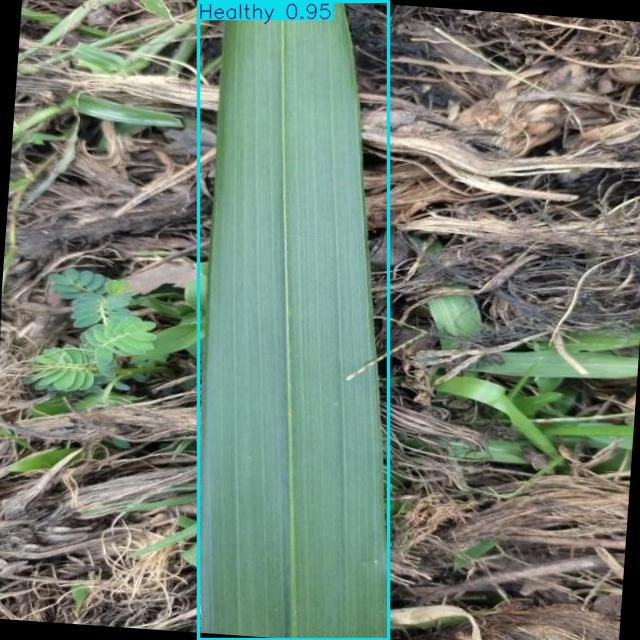Healthy: (199, 2, 388, 640)
